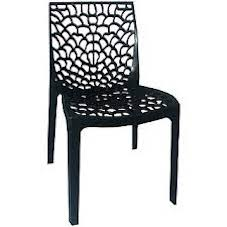chair: (38, 1, 200, 224)
